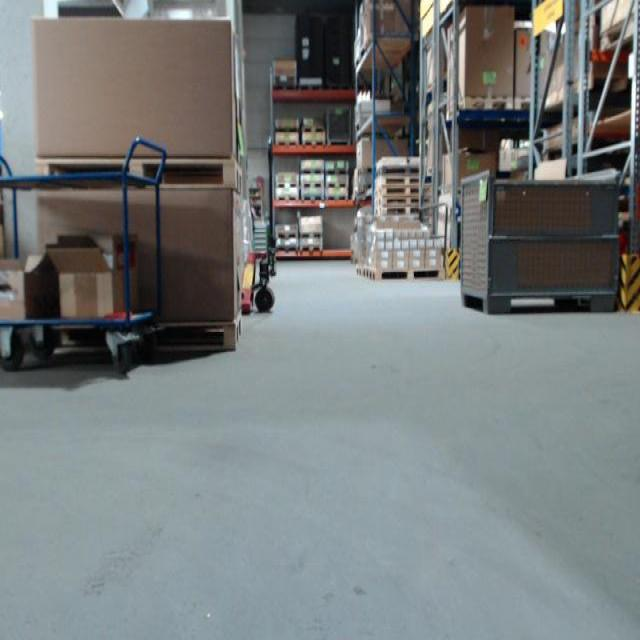pallet: (34, 156, 245, 196), (48, 311, 245, 352), (597, 12, 640, 52), (368, 265, 442, 287), (460, 94, 514, 117), (373, 181, 423, 193), (372, 192, 421, 203), (372, 203, 423, 213), (513, 96, 535, 112), (374, 166, 420, 172), (373, 176, 420, 181), (272, 84, 297, 92), (300, 181, 324, 189), (275, 126, 300, 133), (301, 126, 326, 133), (301, 140, 326, 147), (324, 182, 349, 189), (299, 231, 324, 238), (299, 245, 323, 252), (298, 85, 325, 91), (301, 194, 324, 201), (276, 245, 299, 252), (327, 84, 353, 90), (274, 140, 300, 146), (275, 182, 300, 188), (275, 195, 300, 201), (325, 169, 349, 175), (325, 195, 349, 201), (275, 233, 299, 239), (300, 169, 324, 174), (362, 269, 370, 279), (355, 267, 363, 277)
pallet_truck: (230, 132, 288, 322)
stillage: (445, 168, 622, 317)
